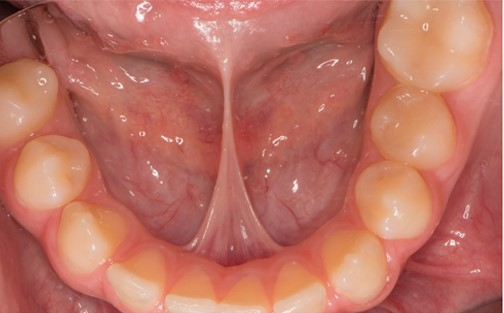LL1BC_healthy: (356, 161, 433, 238)
LL1M_healthy: (382, 1, 490, 85)
LL2BC_healthy: (371, 86, 457, 165)
LLCI_healthy: (221, 272, 271, 313)
LLC_healthy: (322, 231, 388, 302)
LLLI_healthy: (272, 261, 327, 313)
LR1BC_healthy: (18, 136, 90, 204)
LR2BC_healthy: (1, 60, 58, 135)
LRCI_healthy: (172, 268, 216, 313)
LRC_healthy: (59, 198, 125, 266)
LRLI_healthy: (115, 245, 164, 308)
